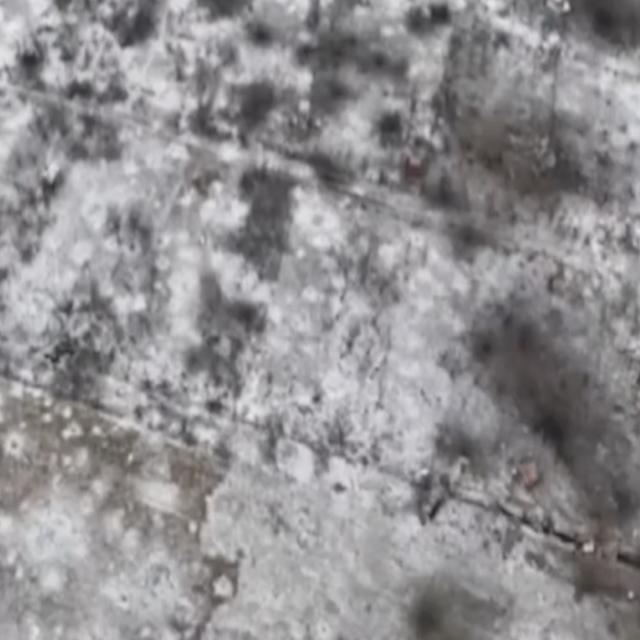vehicle: (404, 146, 431, 180)
